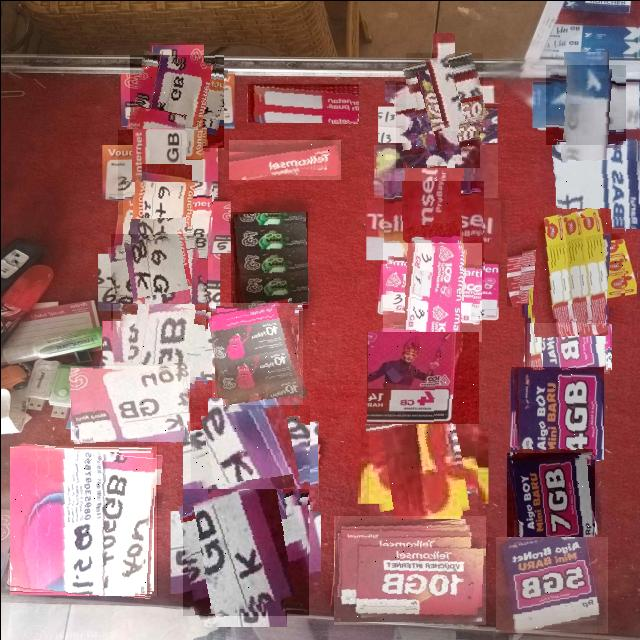Axis: (496, 536, 610, 632), (510, 366, 603, 459), (552, 139, 640, 228), (506, 452, 594, 541), (395, 81, 479, 167), (526, 290, 609, 373), (373, 144, 497, 197), (545, 64, 625, 144), (405, 52, 482, 130)
Indosat-3: (9, 445, 160, 595), (182, 488, 308, 615), (190, 404, 309, 522), (368, 410, 477, 520), (211, 302, 302, 409), (110, 233, 207, 330), (69, 365, 189, 441), (129, 54, 223, 147), (112, 303, 205, 396), (122, 181, 212, 272), (230, 211, 307, 308), (117, 128, 202, 214), (247, 83, 358, 122)
Telkomsel: (333, 515, 485, 624), (383, 180, 483, 279), (228, 139, 340, 179)
im3: (519, 216, 624, 322)
smartfren: (366, 331, 478, 423), (382, 242, 481, 341)
